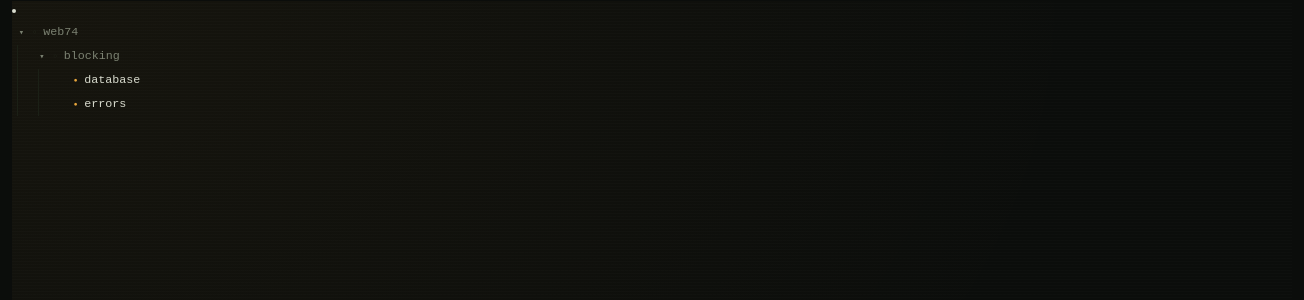
it: FolderTree › collapses a node's children on click
Click the text "blocking": (92,56) [64,49,120,63]
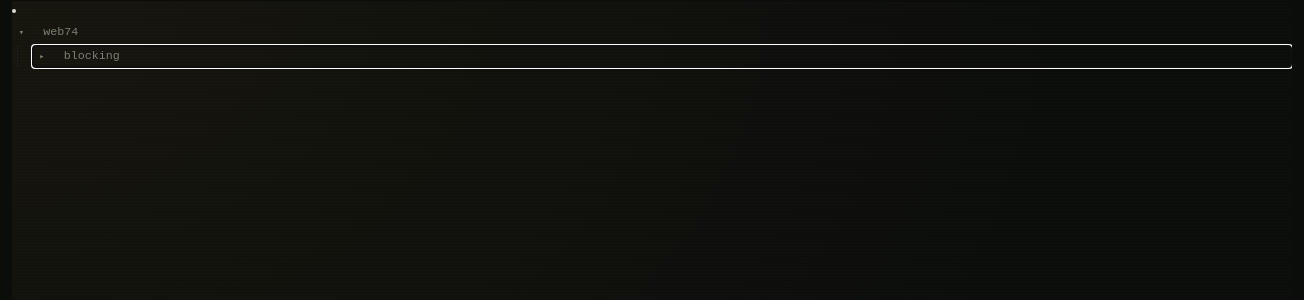
Expected: the button "database" is gone
